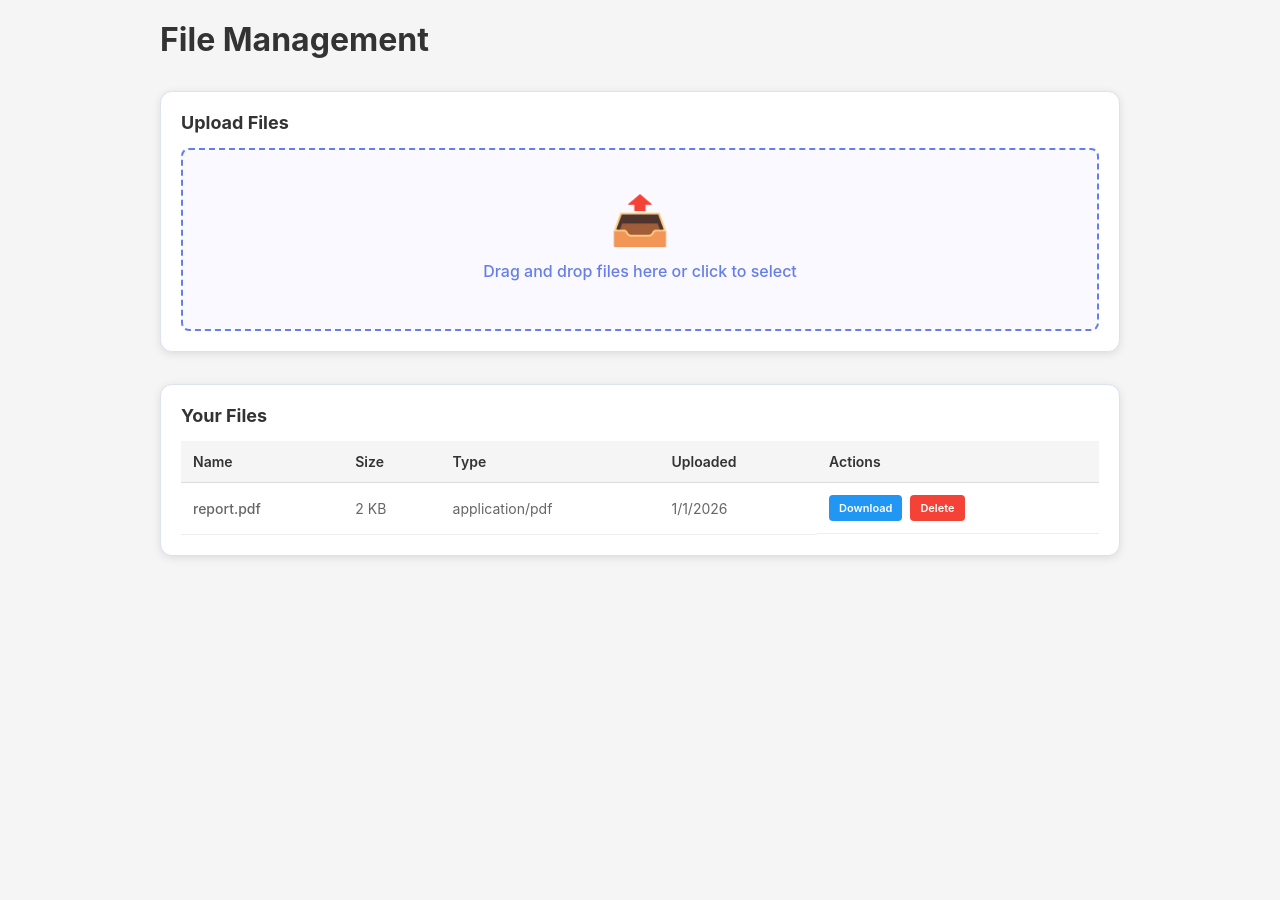
Scenario: Files page › deletes a file after confirmation and skips when cancelled
Click the button with test id "file-delete-button-f1". click: (937, 508)
box: [910,495,964,521]
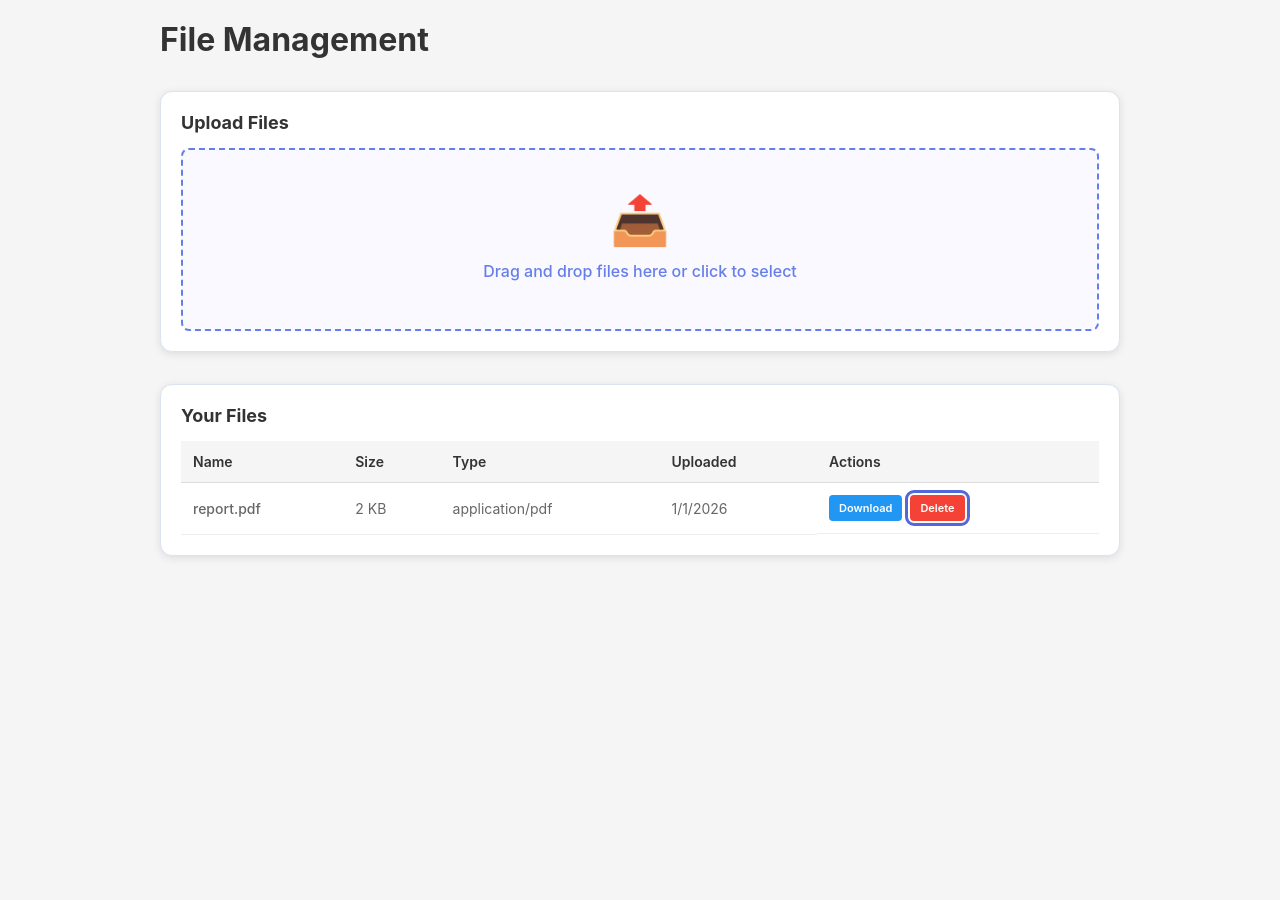
Expected: the row with test id "file-item-f1" is shown, [181,482,1099,534]
Click the button with test id "file-delete-button-f1". click: (937, 508)
box: [910,495,964,521]
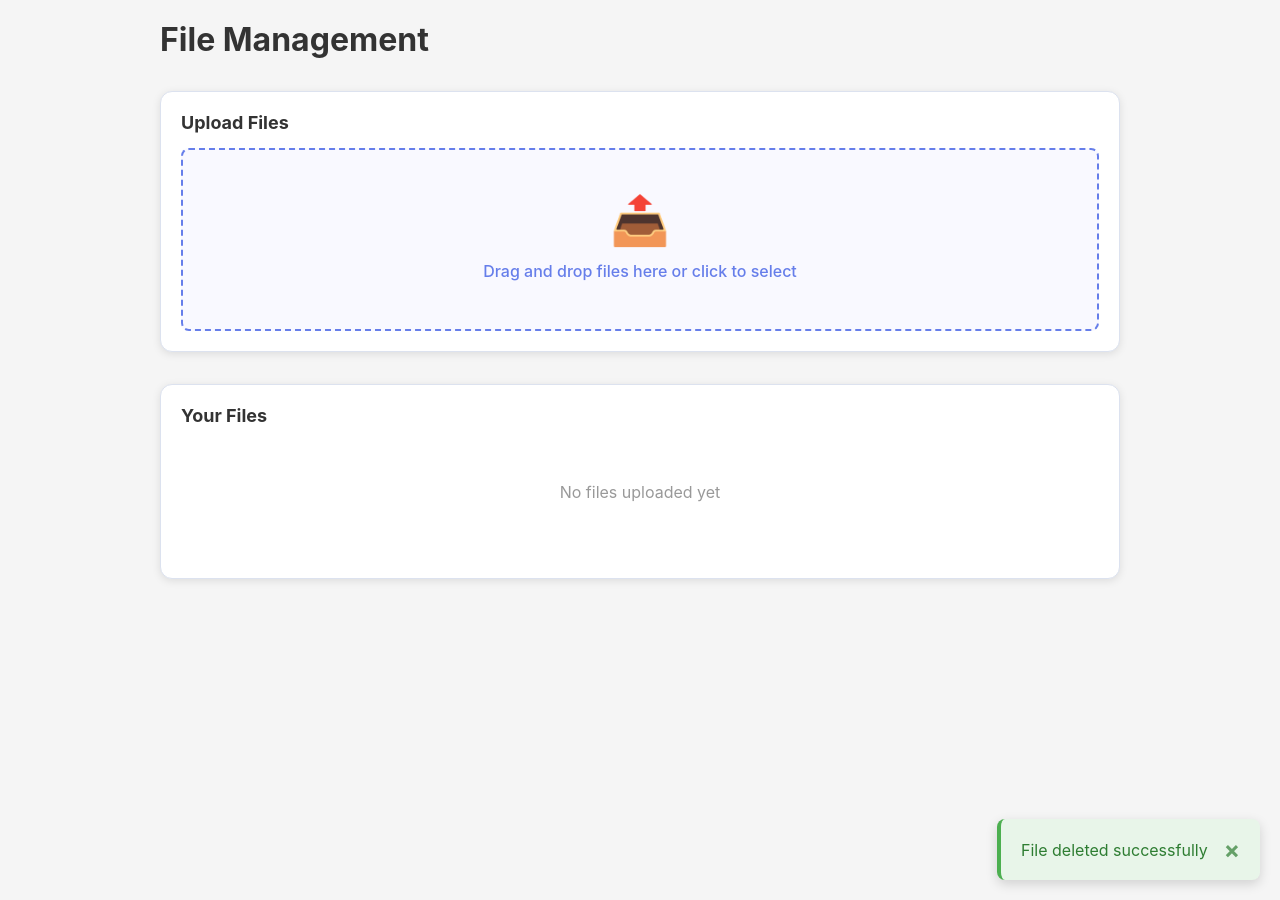
Expected: the text "No files uploaded yet" is shown, [560,482,720,502]
Expected: the message with test id "toast" shows "File deleted successfully", [1021,840,1208,860]
